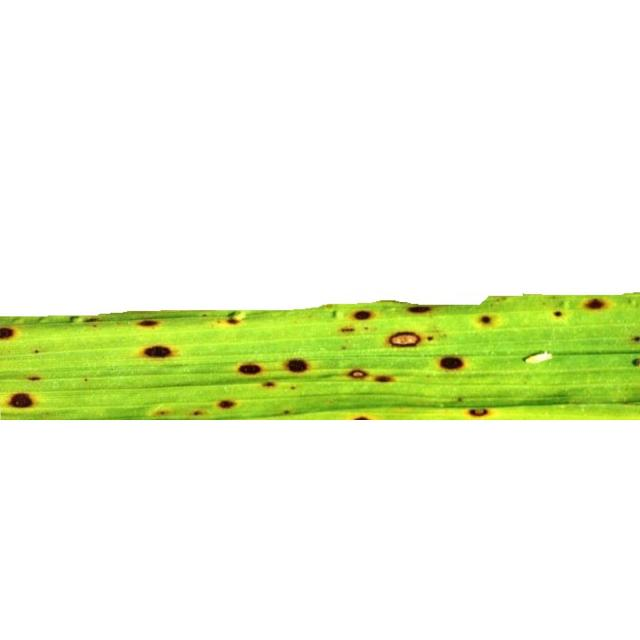Brown spot: (132, 336, 179, 364), (210, 306, 260, 330), (4, 387, 41, 415), (232, 354, 266, 380), (438, 348, 471, 374), (384, 329, 428, 348), (1, 322, 33, 348), (129, 314, 168, 334), (282, 354, 317, 376), (580, 294, 614, 314), (464, 402, 494, 423), (404, 304, 448, 318), (348, 306, 382, 324), (144, 400, 172, 420), (474, 308, 496, 331), (76, 315, 105, 331), (215, 396, 242, 412), (344, 410, 380, 422), (275, 403, 300, 419), (544, 306, 566, 324), (346, 364, 366, 379), (375, 370, 394, 384), (628, 327, 640, 348), (25, 372, 45, 384), (184, 404, 202, 416), (629, 354, 640, 370)
